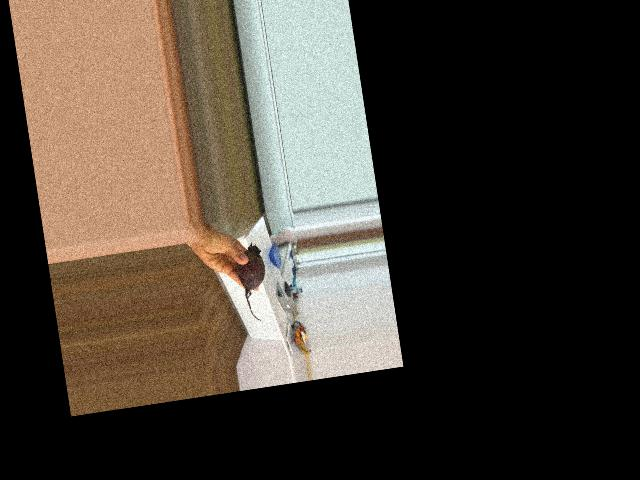beet: (233, 242, 272, 323)
